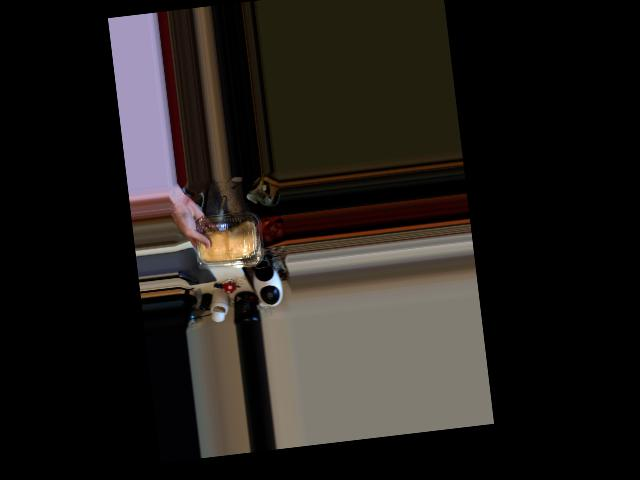cheese: (194, 207, 261, 277)
